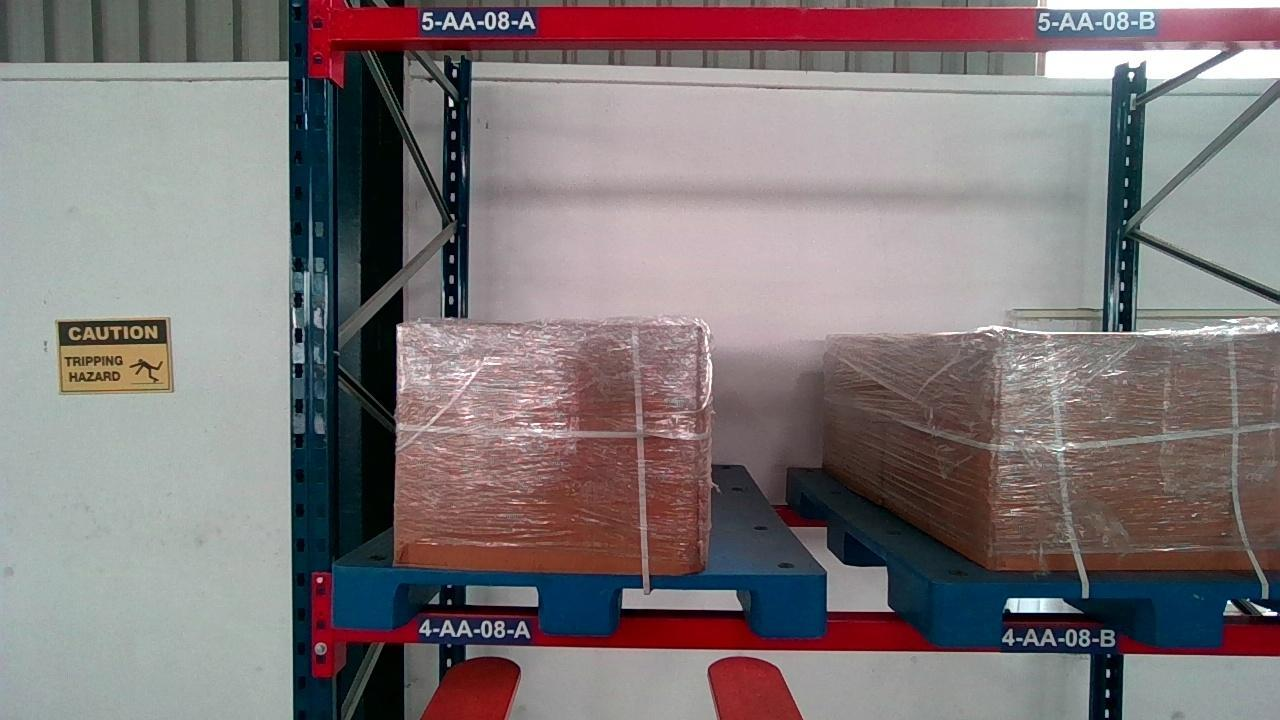h_rack: (324, 608, 1280, 658), (326, 6, 1279, 39)
small_pallet: (332, 567, 825, 636), (947, 584, 1280, 649)
